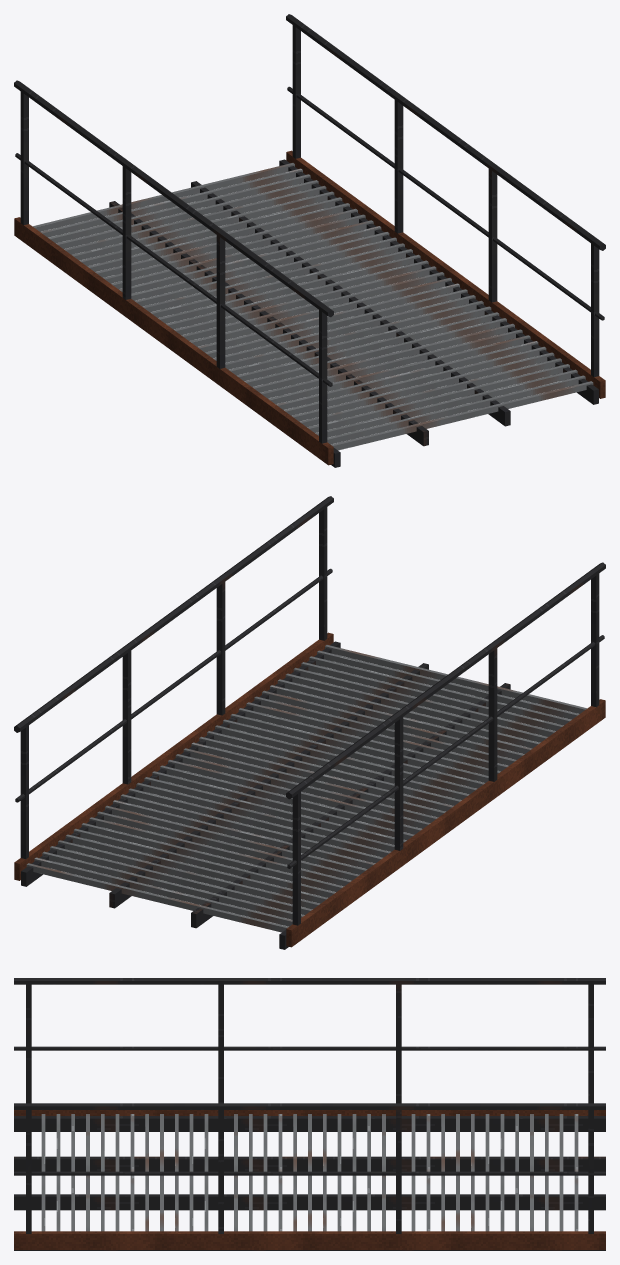
The model's file is grate_walkway.glb.
The picture shows the model from 3 angles, top to bottom: view 1: azimuth 30°, elevation 25°; view 2: azimuth 150°, elevation 25°; view 3: azimuth 270°, elevation 25°; orthographic projection. The views are drawn at different scales.
Parts seen in each view (by area): view 1: grate_walkway; view 2: grate_walkway; view 3: grate_walkway.
Part boxes in pixels (left/top/right/bottom): grate_walkway: left=14, top=14, right=605, bottom=467; grate_walkway: left=14, top=496, right=605, bottom=949; grate_walkway: left=14, top=978, right=605, bottom=1250.
Size of what is drawn, in the model's own units: 2.04 by 1.12 by 4.
3 materials, 3 textured.
